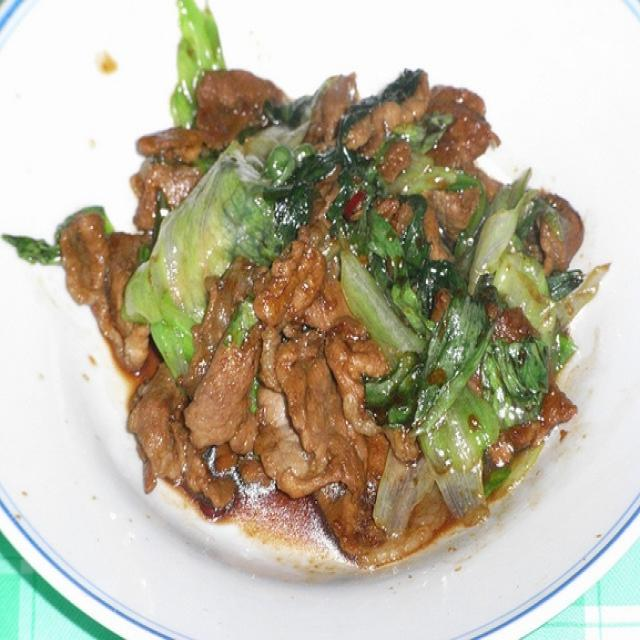猪肉菜式: (21, 8, 603, 608)
